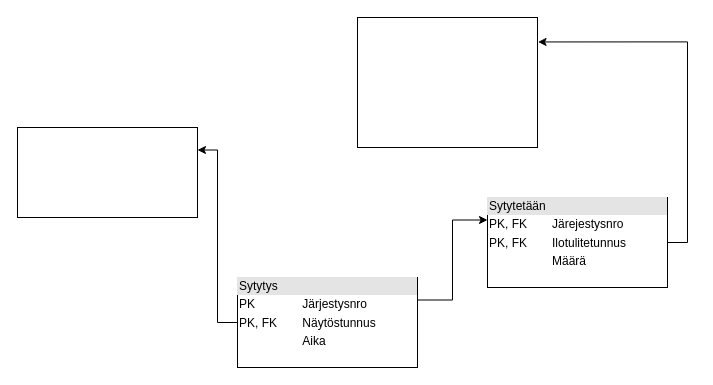
This 713x385 diagram has some shape labels left out. Here are the shapes that lost their labels. From the top down, the box of each, then its label:
(356, 16, 538, 148): Ilotulite PK Ilotulitetunnus Kuvaus tyyppi kesto valmistaja korkeus
(16, 126, 198, 218): Näytös PK Näytöstunnus U Nimi Päivämäärä
